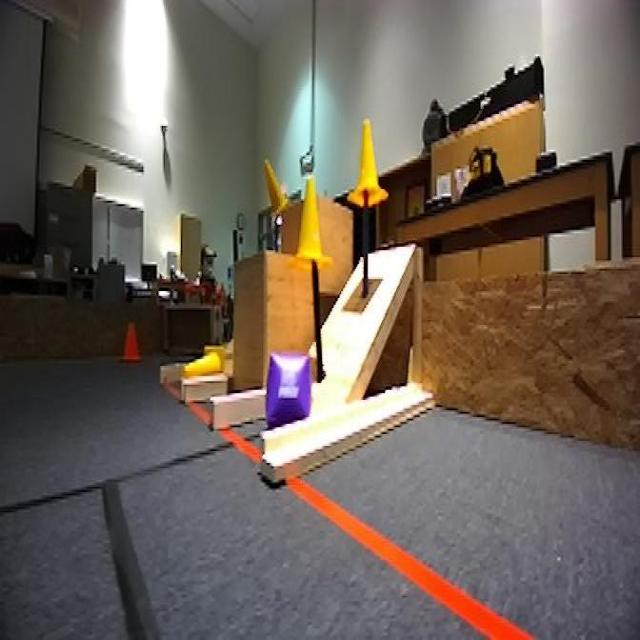frc_cone: (292, 175, 332, 276), (350, 118, 390, 211), (181, 339, 228, 381), (264, 162, 289, 221)
frc_cube: (261, 346, 312, 436)
